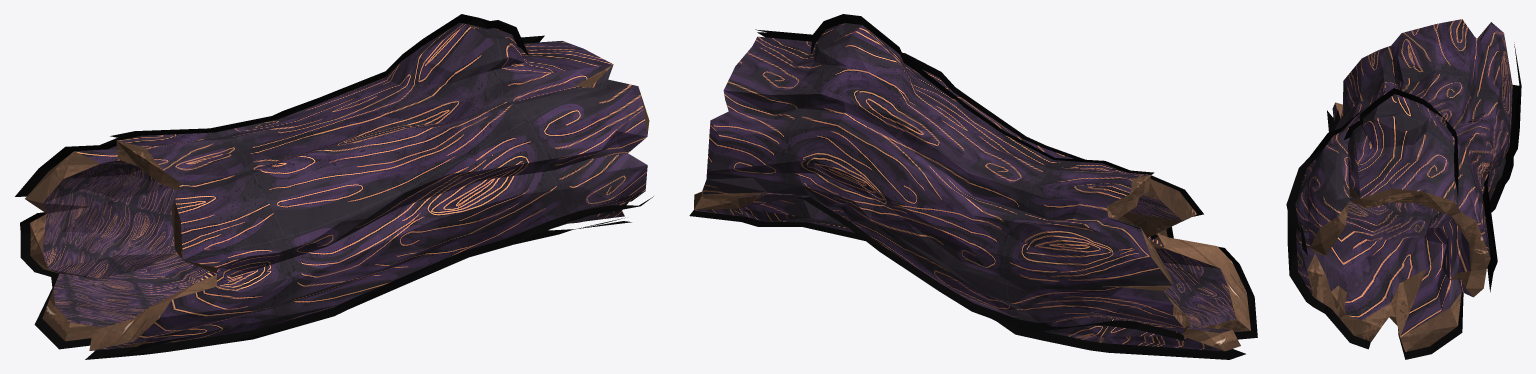
Rendered from s0_Log_01__1__01.glb.
3 renders of one model, left to right at view 1: azimuth 30°, elevation 25°; view 2: azimuth 150°, elevation 25°; view 3: azimuth 270°, elevation 25°, orthographic. The views are drawn at different scales.
Visible parts, largest first — view 1: node_Log_01 (1); view 2: node_Log_01 (1); view 3: node_Log_01 (1).
Part boxes in pixels (x1,y1,x2,y2): node_Log_01 (1): [15, 14, 653, 359]; node_Log_01 (1): [689, 14, 1257, 359]; node_Log_01 (1): [1286, 19, 1521, 359].
Size of what is drawn, in the model's own units: 3.27 by 1.46 by 1.33.
3 materials, 2 textured.
